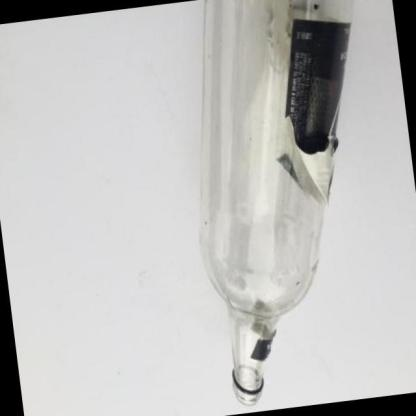Can: (198, 0, 354, 406)
